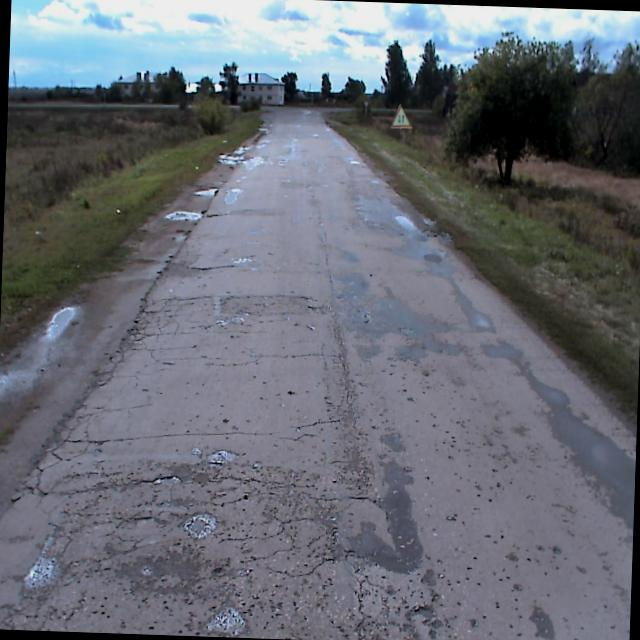road: (0, 106, 635, 640)
